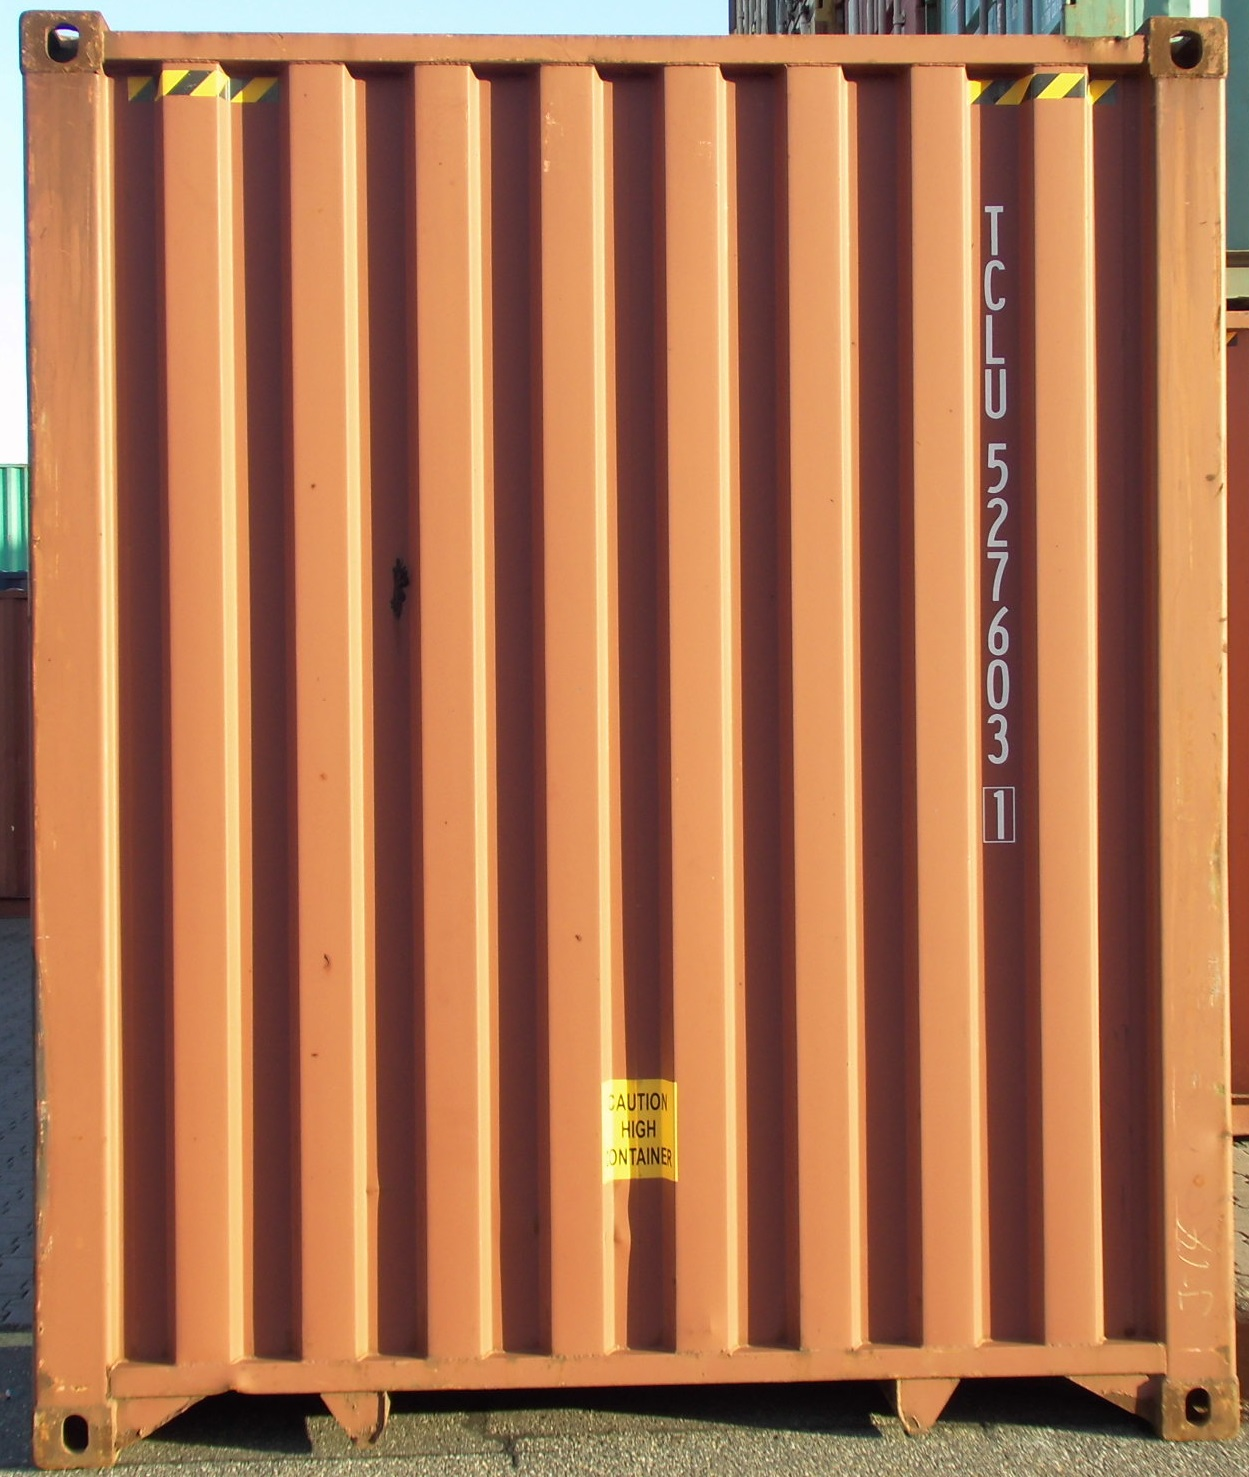container_no_door: (50, 20, 1213, 1462)
